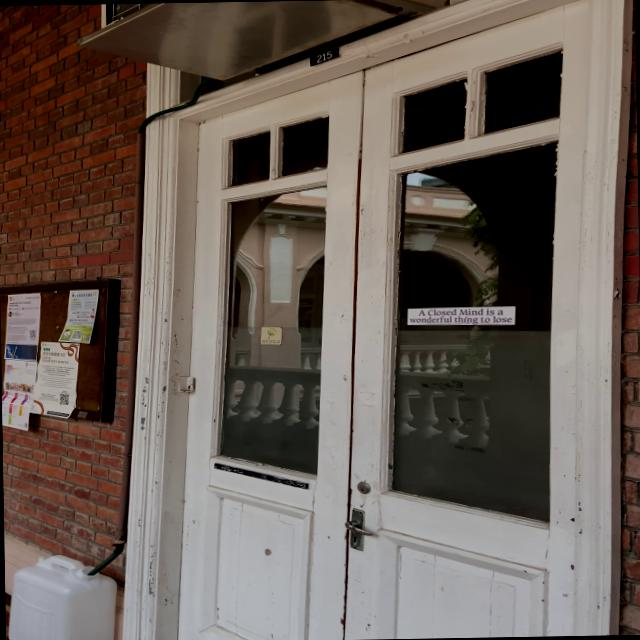room215: (308, 46, 339, 67)
